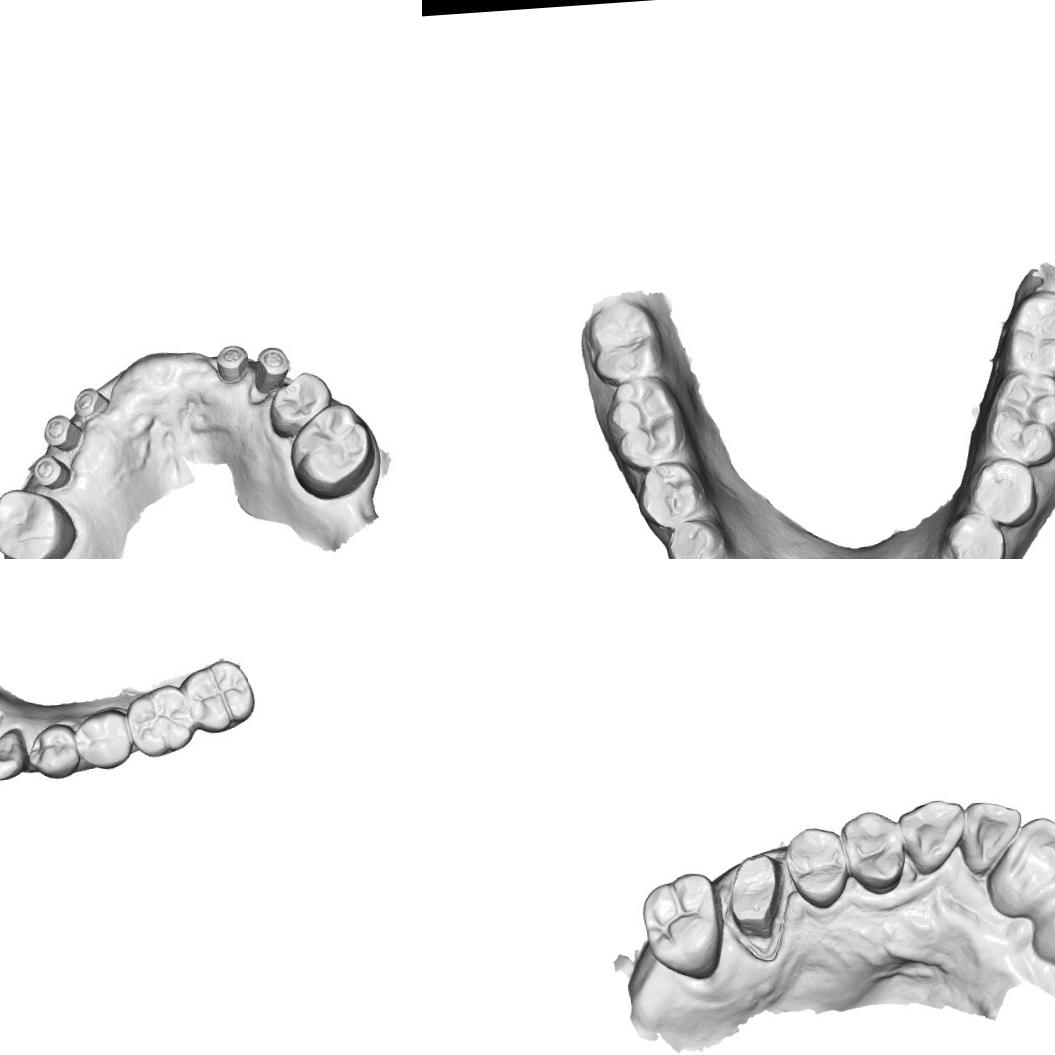canine: (897, 795, 968, 878), (0, 725, 27, 784)
crown: (721, 851, 785, 942)
implant: (26, 446, 76, 490), (37, 404, 82, 450), (212, 336, 248, 390), (69, 381, 108, 421), (252, 342, 288, 380)
incisor: (987, 812, 1055, 913), (955, 794, 1027, 875)
molar: (636, 868, 726, 981), (284, 402, 379, 501), (604, 373, 690, 469), (978, 369, 1055, 470), (584, 296, 666, 386), (0, 484, 80, 559), (994, 284, 1055, 378), (128, 687, 192, 757), (185, 661, 249, 729)
premolar: (840, 806, 909, 894), (783, 822, 847, 910), (968, 454, 1042, 530), (264, 365, 334, 438), (634, 460, 702, 530), (70, 704, 134, 770), (941, 508, 1008, 559), (661, 514, 727, 559), (30, 722, 80, 780)
